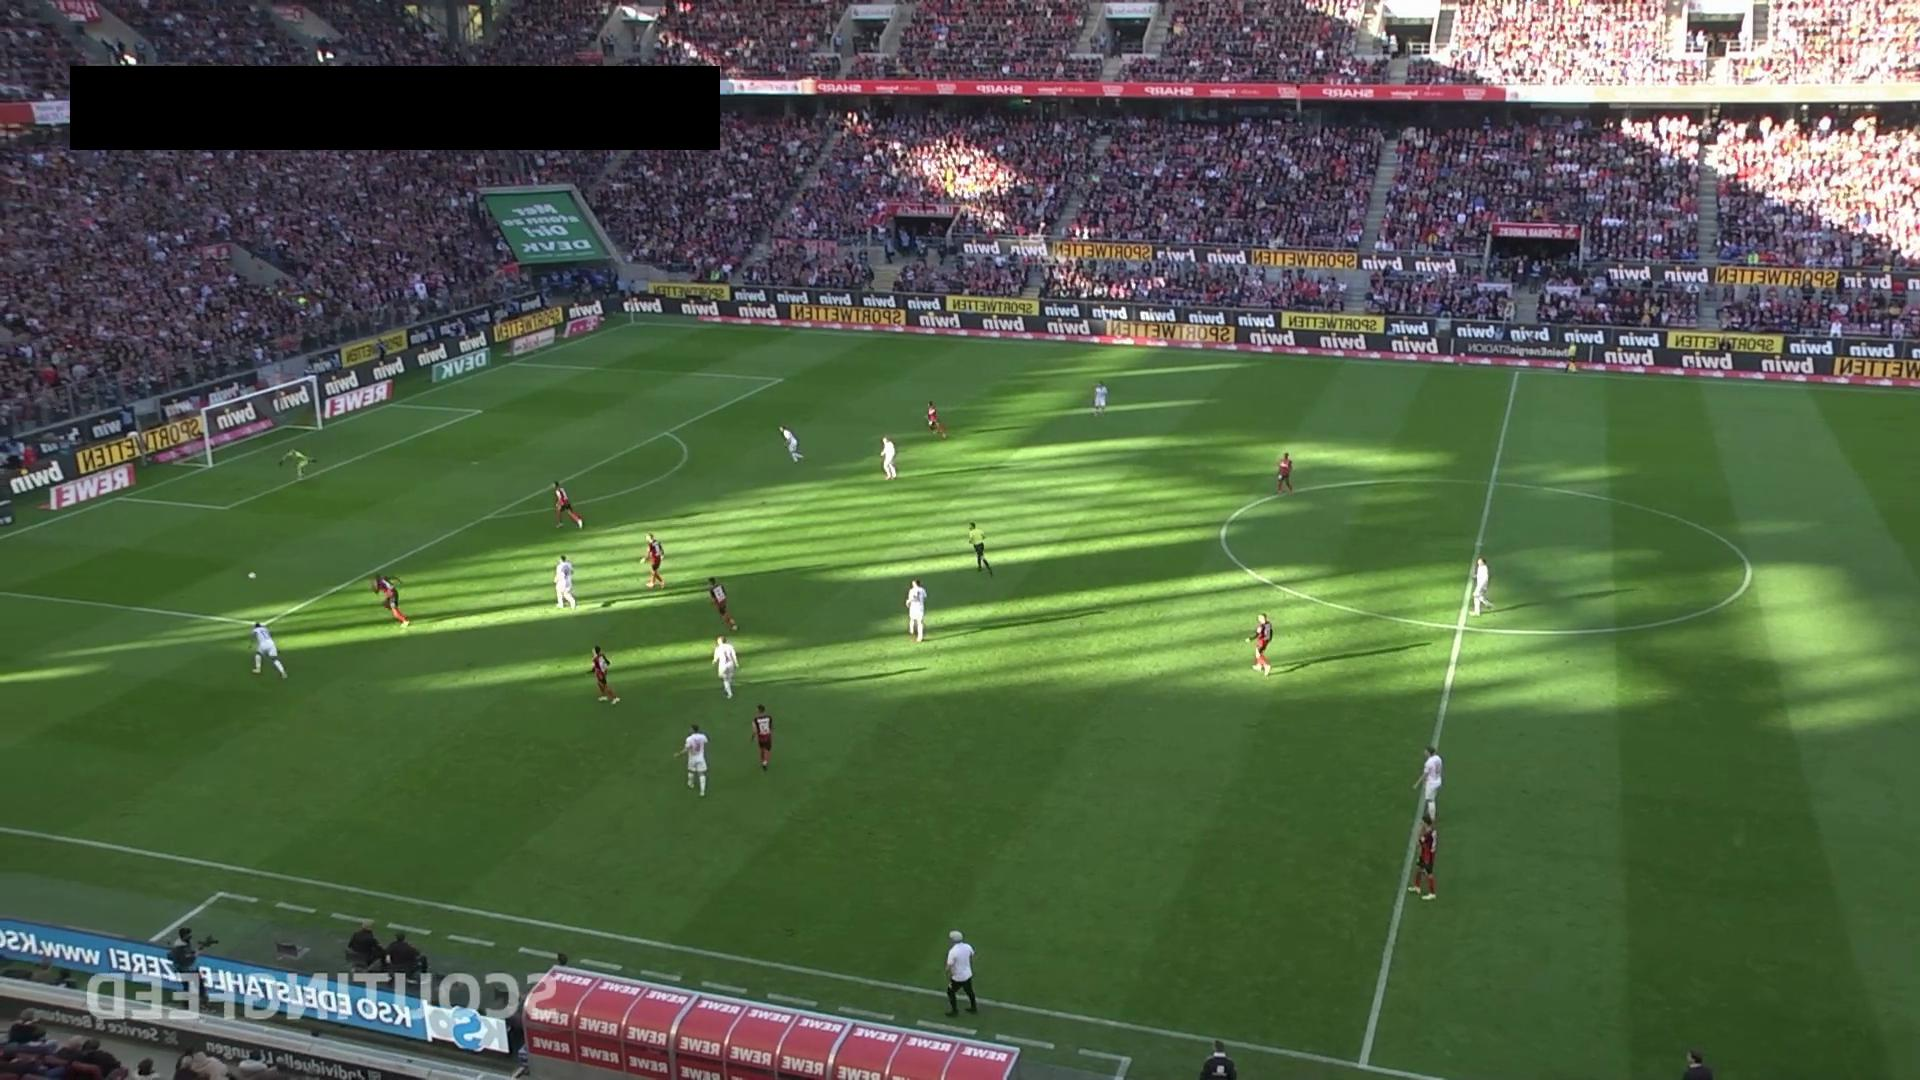ball: (247, 571, 256, 581)
goalkeeper: (277, 445, 317, 482)
player: (673, 723, 710, 797), (1412, 745, 1443, 823), (249, 621, 288, 680), (1412, 815, 1438, 900), (370, 575, 411, 628), (711, 634, 739, 699), (590, 644, 620, 704), (707, 576, 739, 631), (750, 703, 773, 772), (1249, 612, 1273, 677), (552, 480, 583, 529), (1470, 556, 1495, 615), (640, 533, 666, 589), (905, 578, 927, 643), (554, 554, 577, 609), (778, 424, 804, 463), (1681, 1049, 1714, 1079), (1275, 452, 1295, 494), (926, 400, 947, 438), (880, 435, 897, 481), (1092, 381, 1108, 419)
referee: (967, 520, 993, 576), (1562, 336, 1579, 375)
